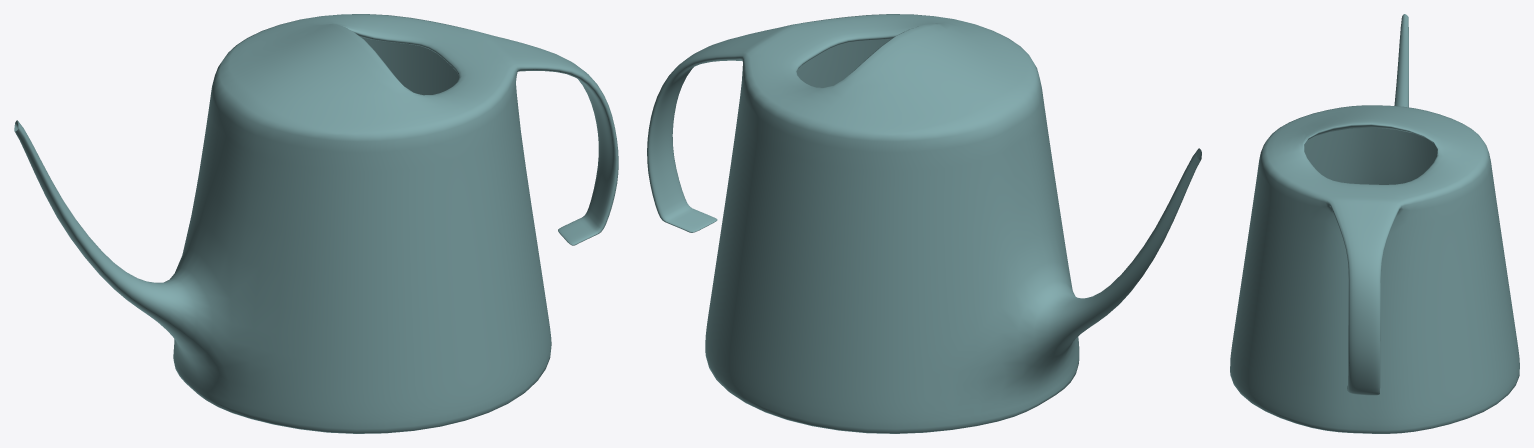
Rendered from Pouring water3.fbx.
3 renders of one model, left to right at view 1: azimuth 30°, elevation 25°; view 2: azimuth 150°, elevation 25°; view 3: azimuth 270°, elevation 25°, orthographic. The views are drawn at different scales.
Parts seen in each view (by area): view 1: pCylinder2; view 2: pCylinder2; view 3: pCylinder2.
Part boxes in pixels (<box>): pCylinder2: <box>14,14,618,433</box>; pCylinder2: <box>647,14,1201,433</box>; pCylinder2: <box>1230,14,1519,433</box>.
Bounding box in the file's own units: 1668 × 891 × 938.
